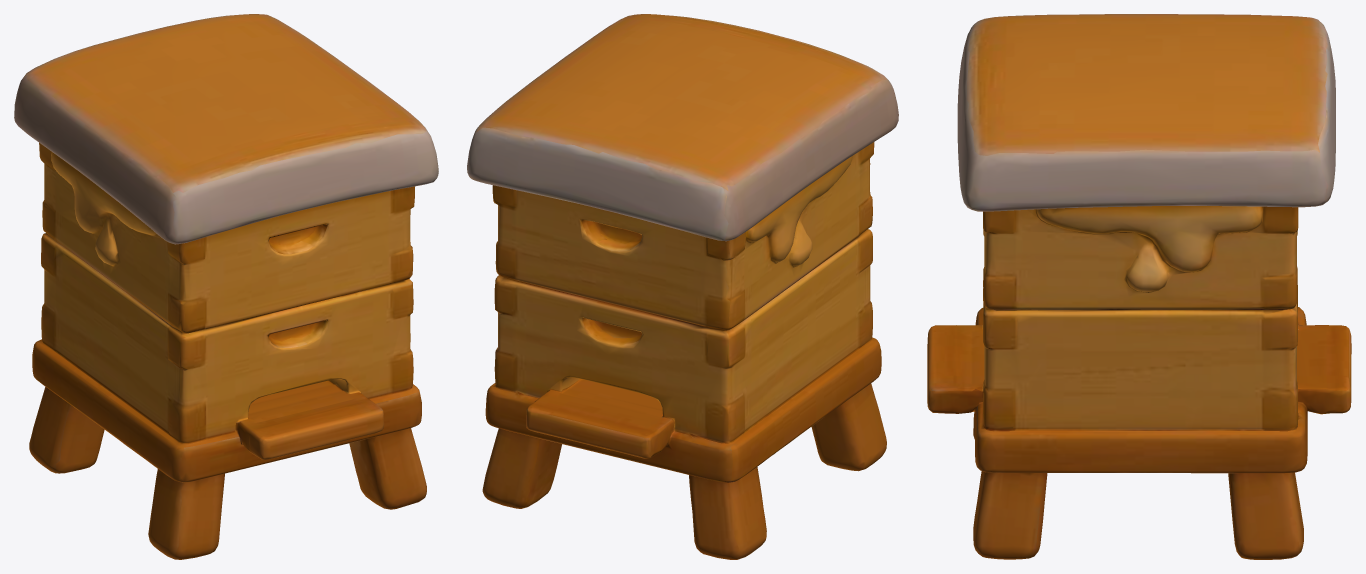
The model's file is beehive.glb.
3 views of the same model, side by side, from view 1: azimuth 30°, elevation 25°; view 2: azimuth 150°, elevation 25°; view 3: azimuth 270°, elevation 25° (orthographic). The views are drawn at different scales.
Parts seen in each view (by area): view 1: textured_mesh.obj; view 2: textured_mesh.obj; view 3: textured_mesh.obj.
Part boxes in pixels (left/top/right/bottom): textured_mesh.obj: left=14, top=14, right=438, bottom=559; textured_mesh.obj: left=467, top=14, right=898, bottom=559; textured_mesh.obj: left=927, top=14, right=1351, bottom=559.
Size of what is drawn, in the model's own units: 0.7659 by 1.05 by 0.9421.
Materials: 1 (1 with a texture image).
